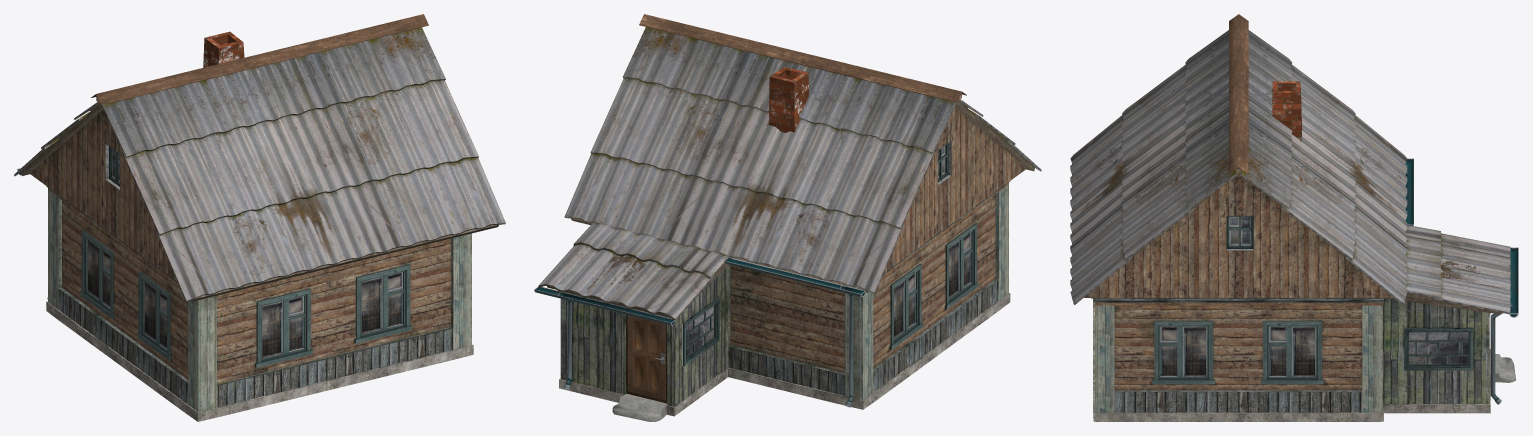
Rendered from carved_house.glb.
3 views of the same model, side by side, from view 1: azimuth 30°, elevation 25°; view 2: azimuth 150°, elevation 25°; view 3: azimuth 270°, elevation 25° (orthographic). The views are drawn at different scales.
Visible parts, largest first — view 1: defaultMaterial (×2), Box003; view 2: defaultMaterial (×2), Box003; view 3: defaultMaterial (×2), Box003.
Part boxes in pixels (x1,y1,x2,y2): defaultMaterial (×2): [14, 14, 505, 367]; Box003: [29, 95, 473, 421]; defaultMaterial (×2): [534, 14, 1041, 421]; Box003: [559, 93, 1026, 416]; defaultMaterial (×2): [1070, 14, 1518, 404]; Box003: [1084, 168, 1490, 421].
Size of the model in its own units: 9300 by 7560 by 11507.
3 materials, 3 textured.
